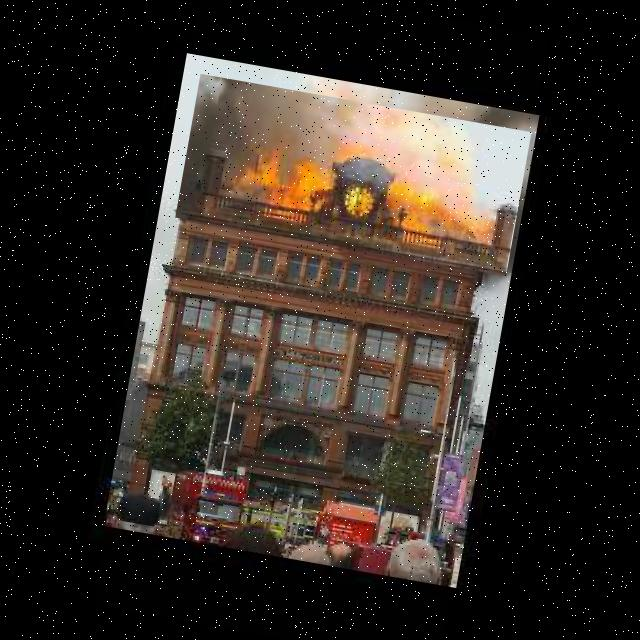fire: (175, 74, 531, 276)
